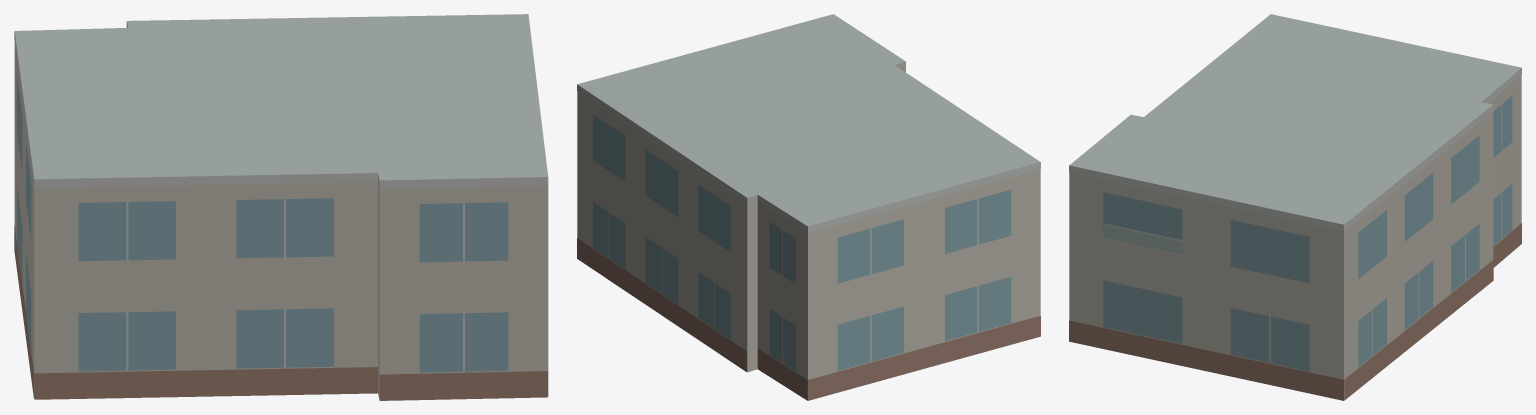
File: survey-upis-32674151.glb
3 renders of one model, left to right at view 1: azimuth 30°, elevation 25°; view 2: azimuth 150°, elevation 25°; view 3: azimuth 270°, elevation 25°, orthographic. The views are drawn at different scales.
Visible parts, largest first — view 1: survey-upis-32674151.tmp; view 2: survey-upis-32674151.tmp; view 3: survey-upis-32674151.tmp.
Part boxes in pixels (<box>): survey-upis-32674151.tmp: <box>14,14,548,400</box>; survey-upis-32674151.tmp: <box>577,14,1040,400</box>; survey-upis-32674151.tmp: <box>1069,14,1521,400</box>.
Size of the model in its own units: 15.65 by 6.1 by 14.21.
